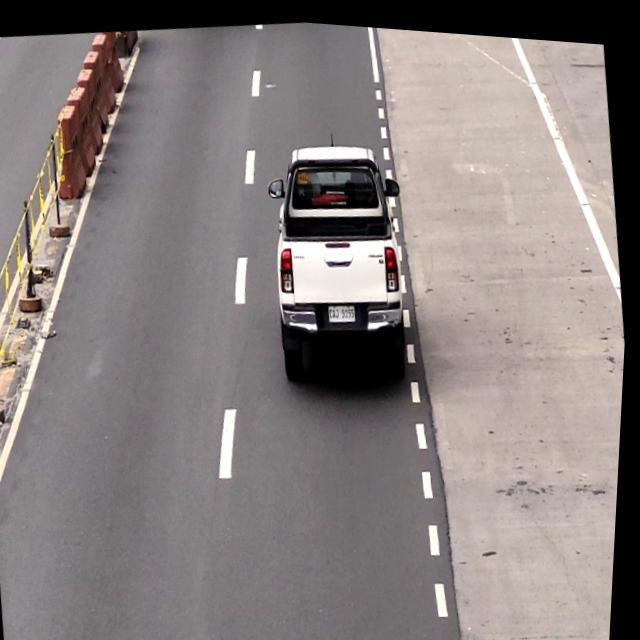Car: (263, 133, 420, 386)
License-Plate: (329, 297, 359, 319)
